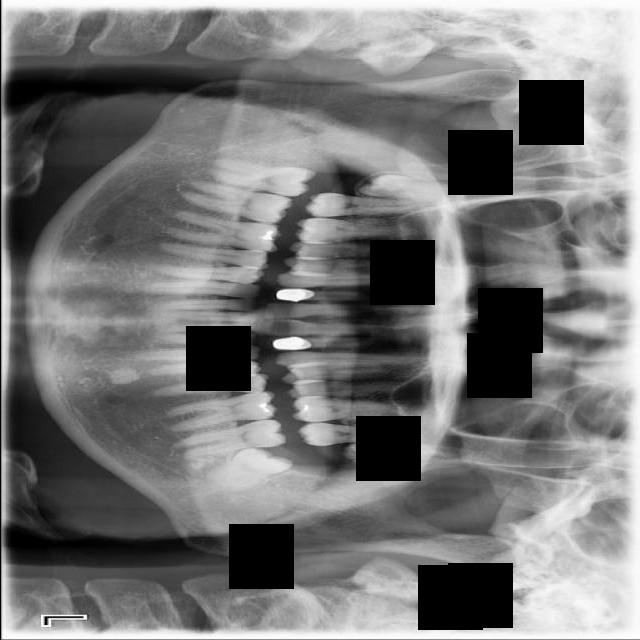3M ESPE Implant: (356, 169, 454, 207)
52: (226, 388, 279, 426), (229, 221, 283, 253), (291, 395, 343, 423), (267, 334, 313, 352), (270, 287, 316, 302)
73: (58, 612, 72, 620)
BioHorizons Implant: (297, 421, 421, 452)
BioLife Implant: (341, 442, 437, 467)
Biomet 3i Implant: (205, 430, 295, 505)
Blue Sky Bio Implant: (166, 416, 288, 461)
Caries: (303, 190, 424, 218)
Implant: (178, 176, 294, 229)
Keystone Dental Implant: (210, 157, 316, 199)
